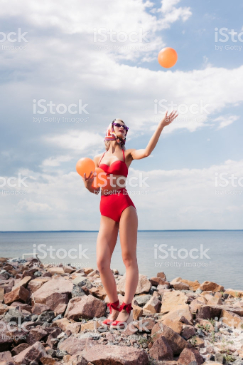ball: (152, 40, 185, 72), (74, 154, 100, 179)
stone: (81, 338, 151, 364), (25, 275, 76, 309), (61, 290, 109, 321), (156, 285, 189, 319), (12, 341, 53, 365), (176, 341, 202, 365), (196, 276, 228, 295)
